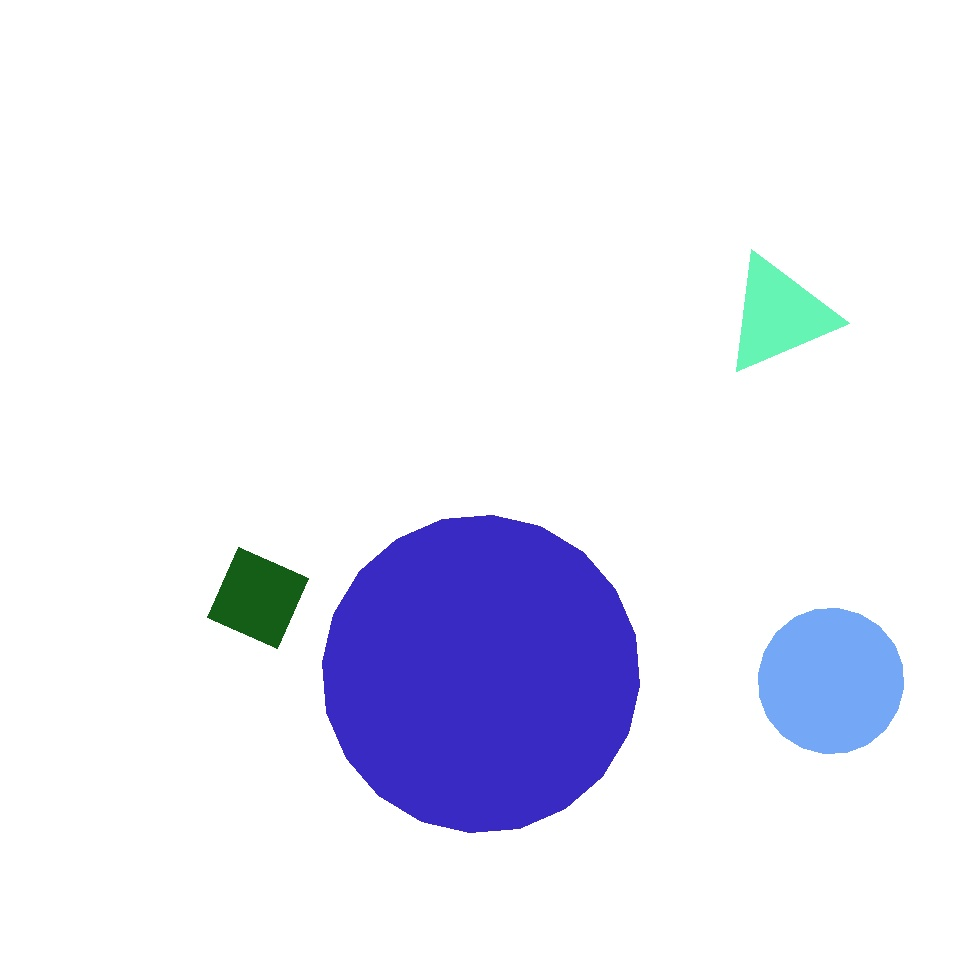circle: (722, 254, 835, 376)
square: (207, 548, 308, 648)
triangle: (486, 311, 850, 676), (323, 515, 640, 832), (758, 608, 904, 754), (54, 444, 158, 548)
